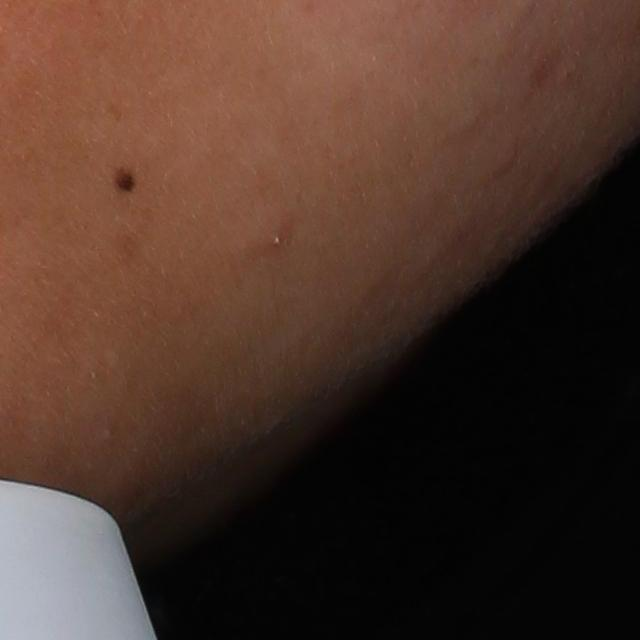nevus: (110, 167, 138, 193)
